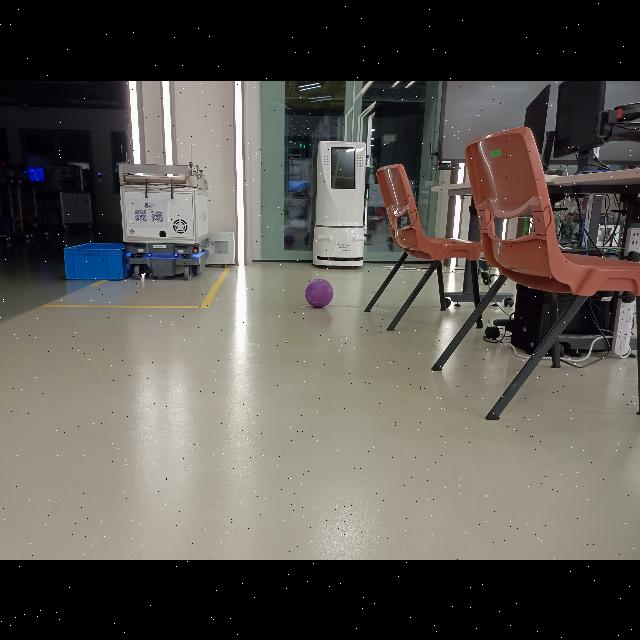P: (302, 275, 336, 309)
